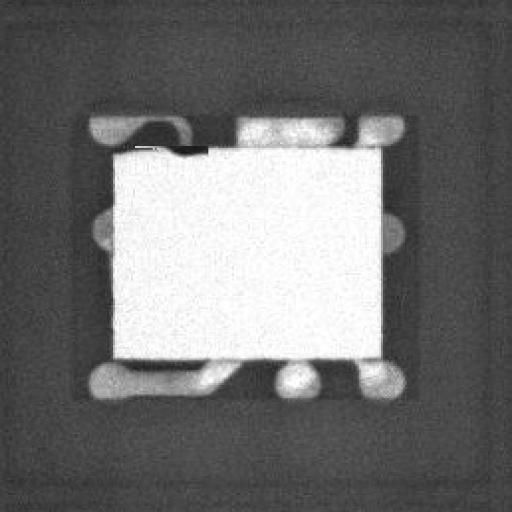DIE_BROKEN: (133, 138, 210, 156)
